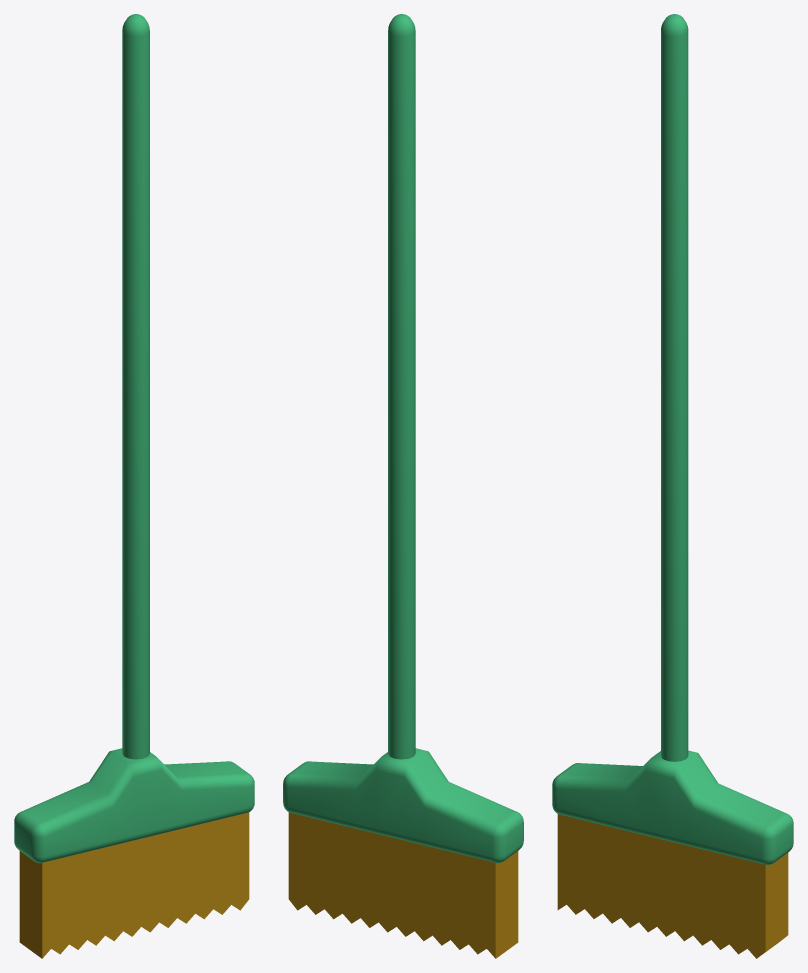
The model's file is ef5822bc-00cc-4811-915c-3729c5e4bccb.glb.
The picture shows the model from 3 angles, left to right: view 1: azimuth 30°, elevation 25°; view 2: azimuth 150°, elevation 25°; view 3: azimuth 330°, elevation 25°; orthographic projection.
Parts seen in each view (by area): view 1: ChamferBox002, Capsule001, ChamferBox001; view 2: ChamferBox002, Capsule001, ChamferBox001; view 3: ChamferBox002, Capsule001, ChamferBox001.
Boxes of the visible parts, x1,y1,x2,y2 form: ChamferBox002: (19, 812, 249, 958); Capsule001: (122, 14, 149, 759); ChamferBox001: (14, 748, 254, 863); ChamferBox002: (288, 812, 518, 958); Capsule001: (388, 14, 415, 759); ChamferBox001: (283, 748, 523, 863); ChamferBox002: (557, 814, 788, 958); Capsule001: (661, 14, 688, 761); ChamferBox001: (552, 750, 793, 864).
Bounding box in the file's own units: 17.7 × 69.26 × 3.64.
